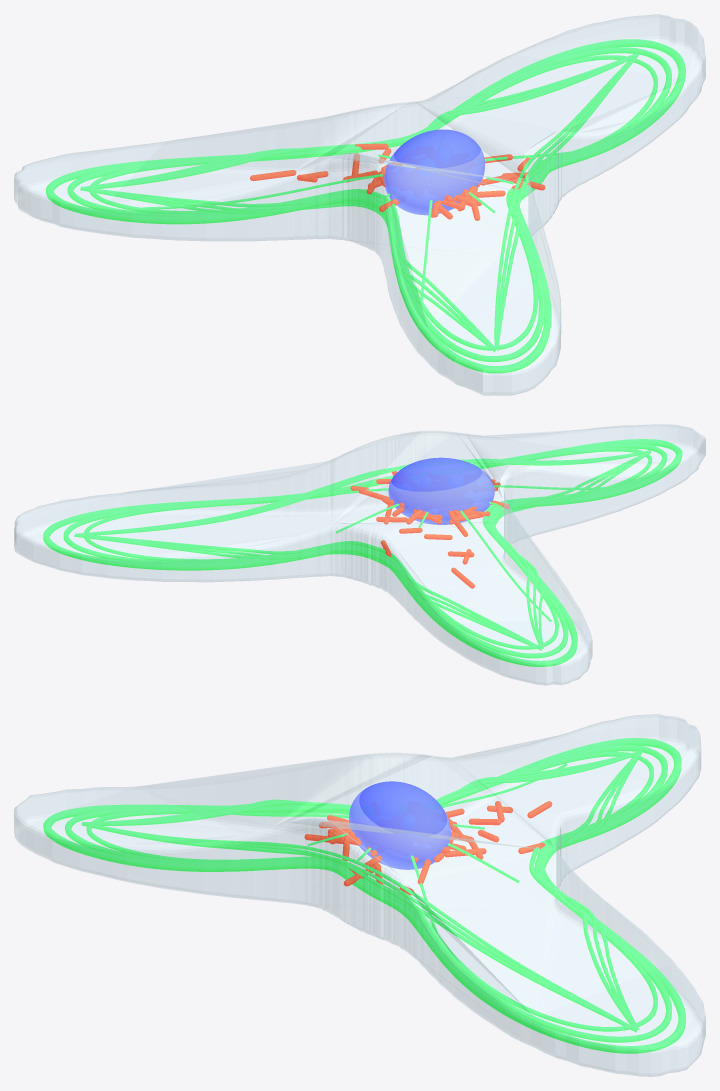
The model's file is dpsc-tripolar-cell-age1.glb.
The picture shows the model from 3 angles, top to bottom: view 1: azimuth 30°, elevation 25°; view 2: azimuth 150°, elevation 25°; view 3: azimuth 270°, elevation 25°; orthographic projection. The views are drawn at different scales.
Parts seen in each view (by area): view 1: lamella_membrane, actin_bundle_1, actin_bundle_2, nucleus, actin_bundle_3, actin_bundle_4, actin_bundle_10, actin_bundle_12, actin_bundle_11, actin_bundle_9, actin_bundle_7, actin_bundle_8 (+3 smaller); view 2: lamella_membrane, actin_bundle_1, nucleus, actin_bundle_3, actin_bundle_2, actin_bundle_7, actin_bundle_4, actin_bundle_6, actin_bundle_5, actin_bundle_9, actin_bundle_8, actin_bundle_10 (+2 smaller); view 3: lamella_membrane, actin_bundle_1, nucleus, actin_bundle_2, actin_bundle_3, actin_bundle_9, actin_bundle_7, actin_bundle_10, actin_bundle_8, actin_bundle_4, actin_bundle_11, actin_bundle_5 (+2 smaller).
Part boxes in pixels (<box>): lamella_membrane: <box>14,14,705,395</box>; actin_bundle_1: <box>46,39,685,373</box>; actin_bundle_2: <box>67,47,671,361</box>; nucleus: <box>384,129,484,215</box>; actin_bundle_3: <box>89,55,657,350</box>; actin_bundle_4: <box>81,53,637,188</box>; actin_bundle_10: <box>80,187,495,352</box>; actin_bundle_12: <box>82,188,494,351</box>; actin_bundle_11: <box>80,187,495,351</box>; actin_bundle_9: <box>495,53,638,351</box>; actin_bundle_7: <box>494,55,634,348</box>; actin_bundle_8: <box>496,59,631,350</box>; lamella_membrane: <box>14,424,705,685</box>; actin_bundle_1: <box>43,439,682,666</box>; nucleus: <box>388,457,494,524</box>; actin_bundle_3: <box>84,447,652,649</box>; actin_bundle_2: <box>63,443,667,658</box>; actin_bundle_7: <box>78,451,647,535</box>; actin_bundle_4: <box>74,533,542,650</box>; actin_bundle_6: <box>76,534,541,650</box>; actin_bundle_5: <box>74,534,538,646</box>; actin_bundle_9: <box>77,450,649,533</box>; actin_bundle_8: <box>86,451,644,533</box>; actin_bundle_10: <box>494,450,651,648</box>; lamella_membrane: <box>14,714,705,1076</box>; actin_bundle_1: <box>43,738,685,1053</box>; nucleus: <box>349,781,450,869</box>; actin_bundle_2: <box>65,745,671,1042</box>; actin_bundle_3: <box>86,751,657,1031</box>; actin_bundle_9: <box>81,822,637,1032</box>; actin_bundle_7: <box>89,823,633,1026</box>; actin_bundle_10: <box>83,751,638,825</box>; actin_bundle_8: <box>95,824,637,1030</box>; actin_bundle_4: <box>542,750,641,1029</box>; actin_bundle_11: <box>94,752,634,822</box>; actin_bundle_5: <box>548,753,638,1026</box>.
Size of the model in its own units: 0.1343 by 0.0187 by 0.1167.
